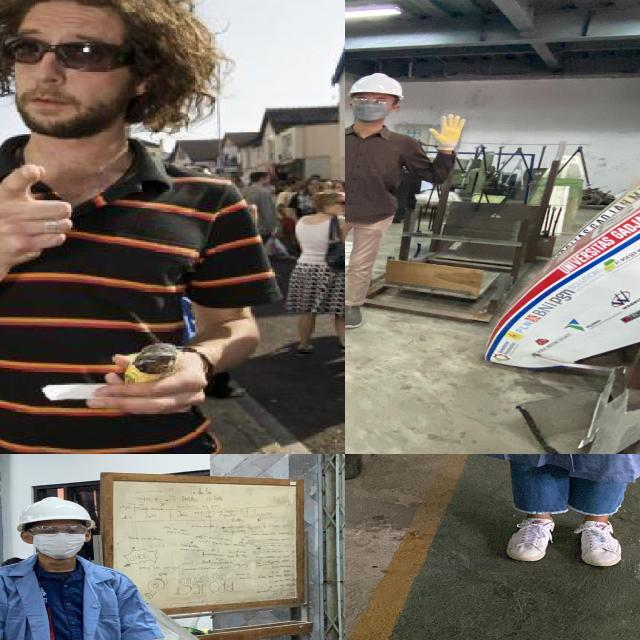face_mask: (28, 524, 89, 562), (350, 95, 396, 122)
face_nomask: (0, 28, 132, 117)
glasses: (0, 0, 311, 454), (0, 27, 134, 79), (23, 523, 89, 537), (347, 94, 398, 108)
hand_glove: (427, 112, 473, 146)
hand_noglove: (64, 326, 221, 432), (0, 155, 93, 275)
head_helmet: (12, 496, 98, 528), (345, 71, 406, 97)
head_nohelmet: (0, 0, 214, 16)
person: (345, 72, 471, 333), (440, 454, 640, 571), (0, 493, 158, 640)
shoes: (563, 515, 633, 572), (495, 512, 565, 567), (345, 300, 365, 329)
